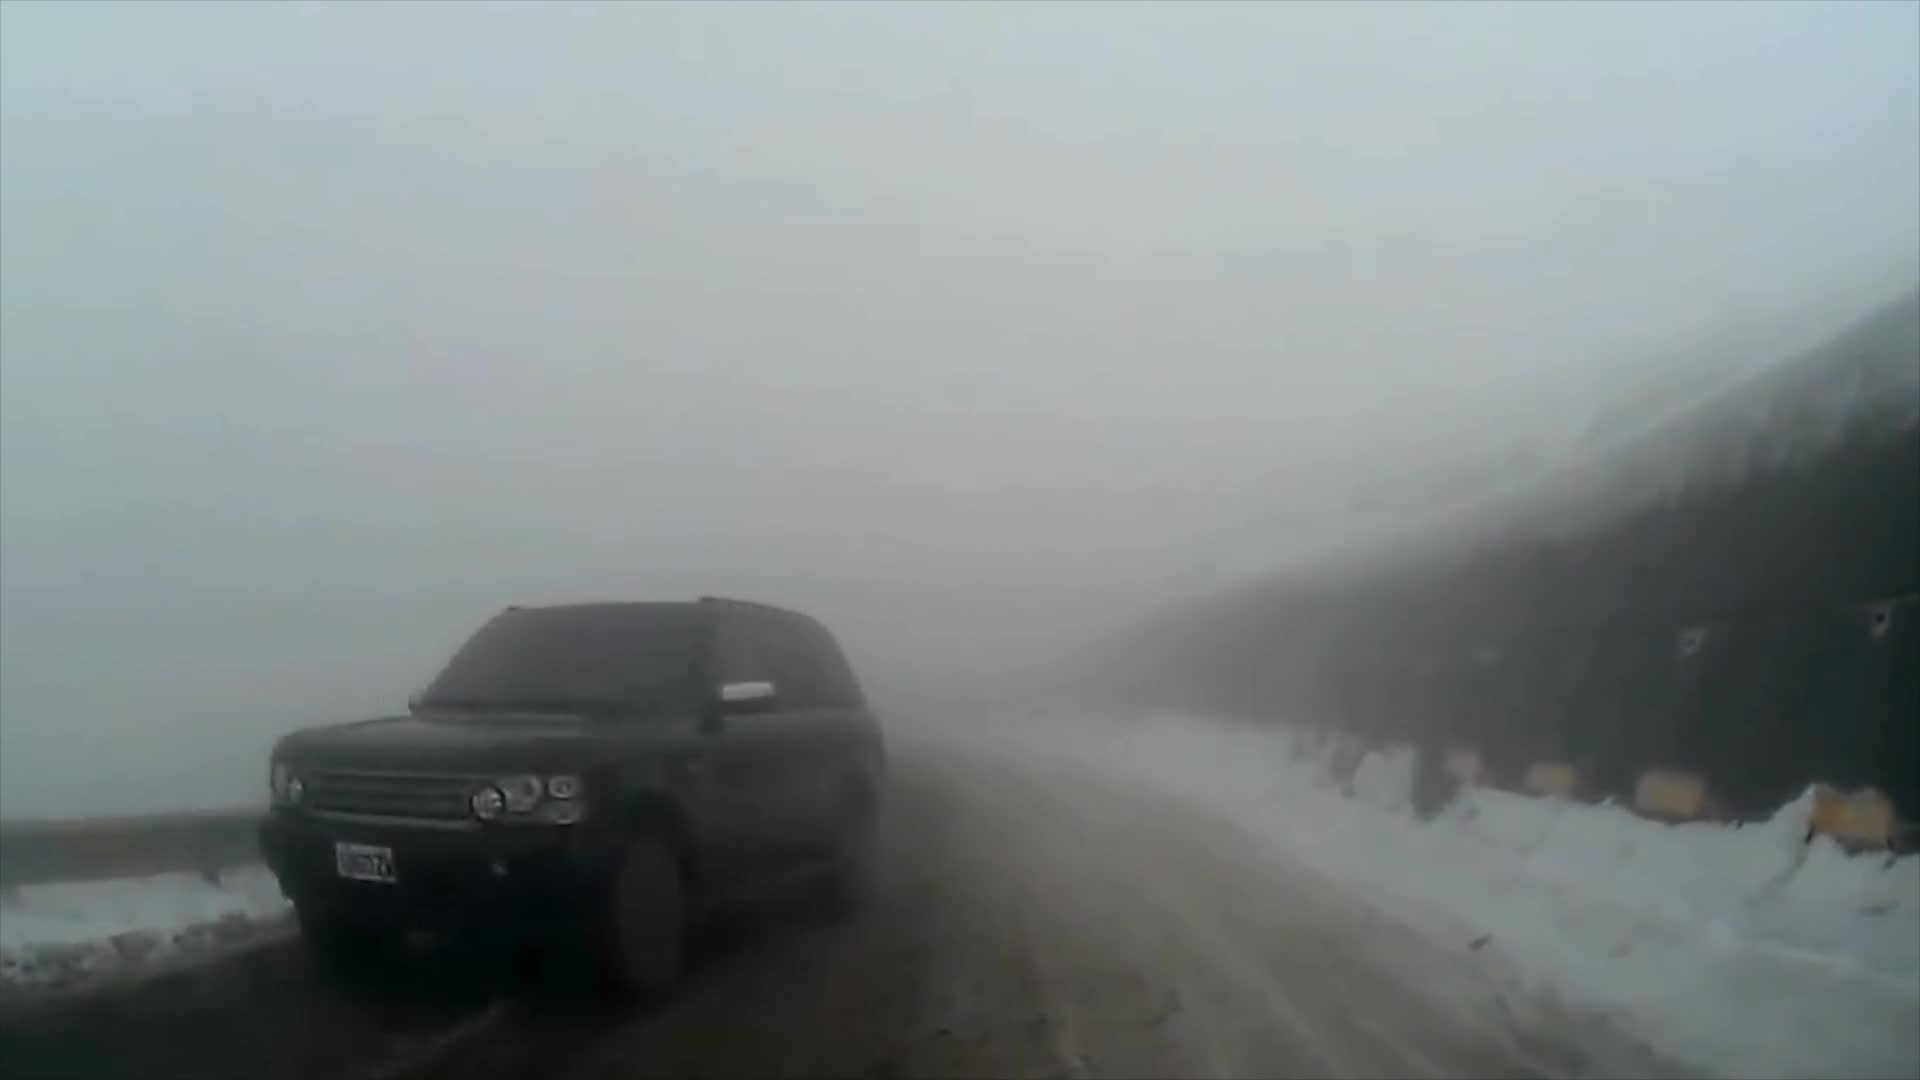vehicle: (255, 592, 887, 1014)
